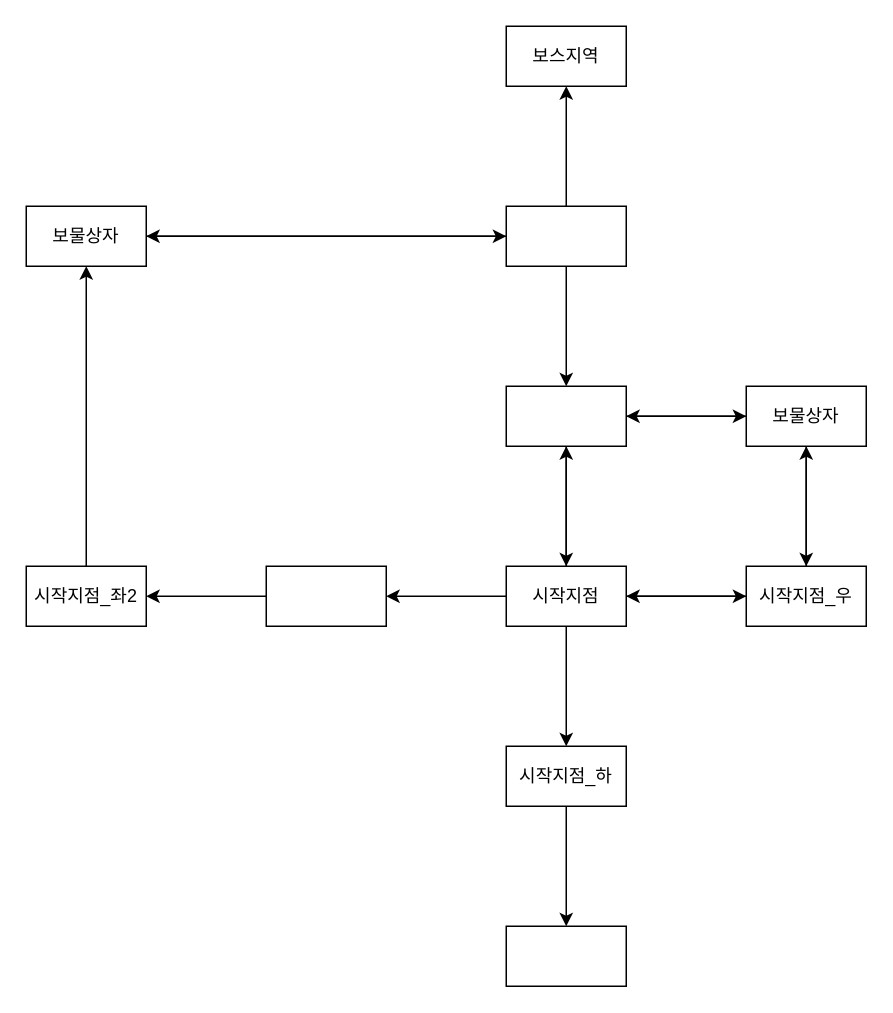
This 893x1013 diagram has some shape labels left out. The centre of each missing label's shape, as x and y in pixels:
"시작지점_상" belongs at (x=565, y=415).
"시작지점_상2" belongs at (x=565, y=235).
"시작지점_좌" belongs at (x=325, y=595).
"신규지역(탑)" belongs at (x=565, y=955).
